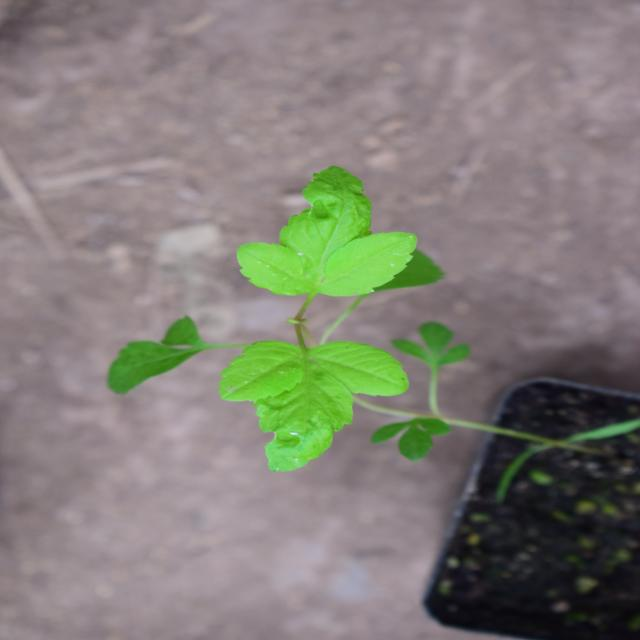Bidens pilosa: (140, 93, 468, 482)
